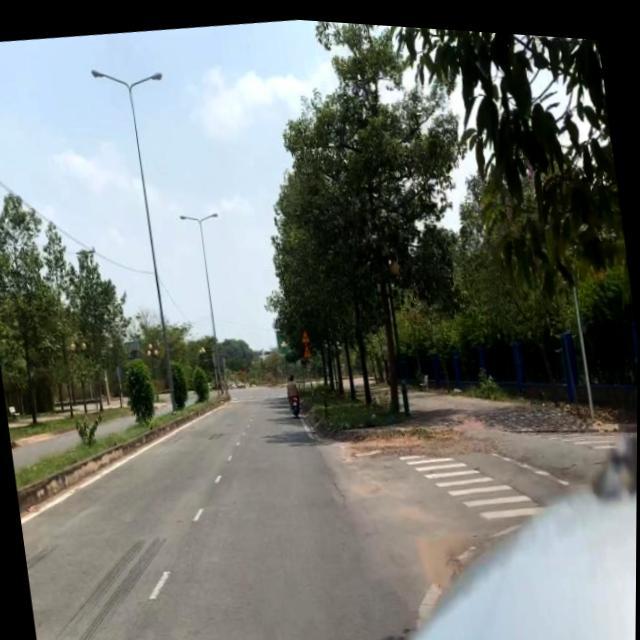Duong giao nhau cung cap: (301, 324, 311, 340)
Nguoi di bo cat ngang: (302, 338, 314, 354)
